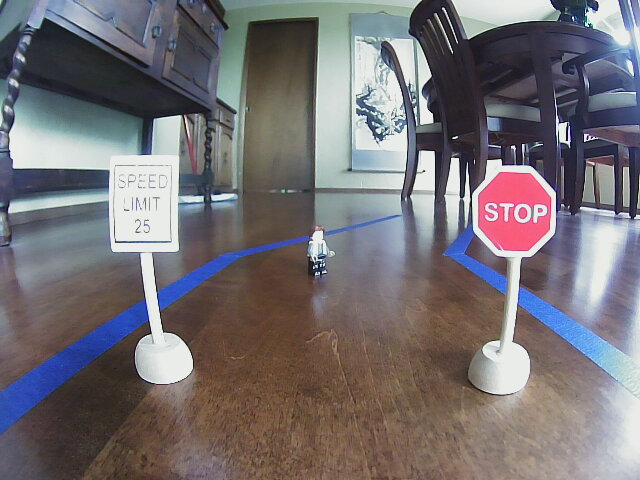SpeedLimit25: (109, 156, 177, 252)
StopSign: (469, 160, 559, 261)
person: (304, 219, 336, 282)
